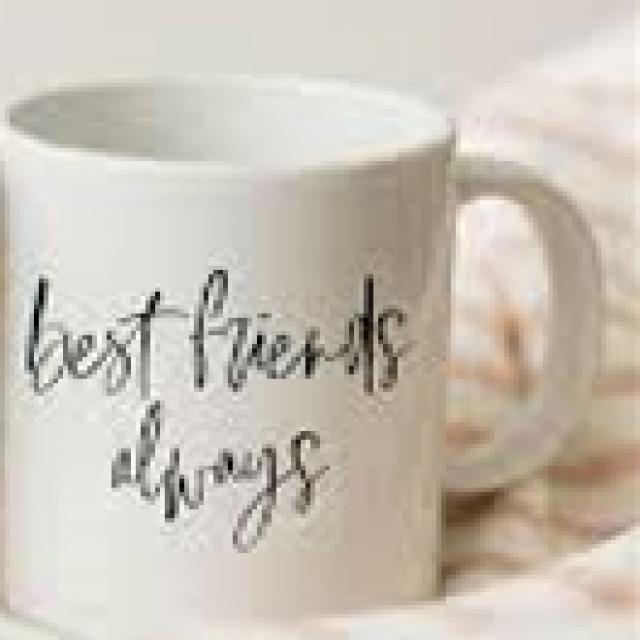taza: (1, 73, 600, 629)
